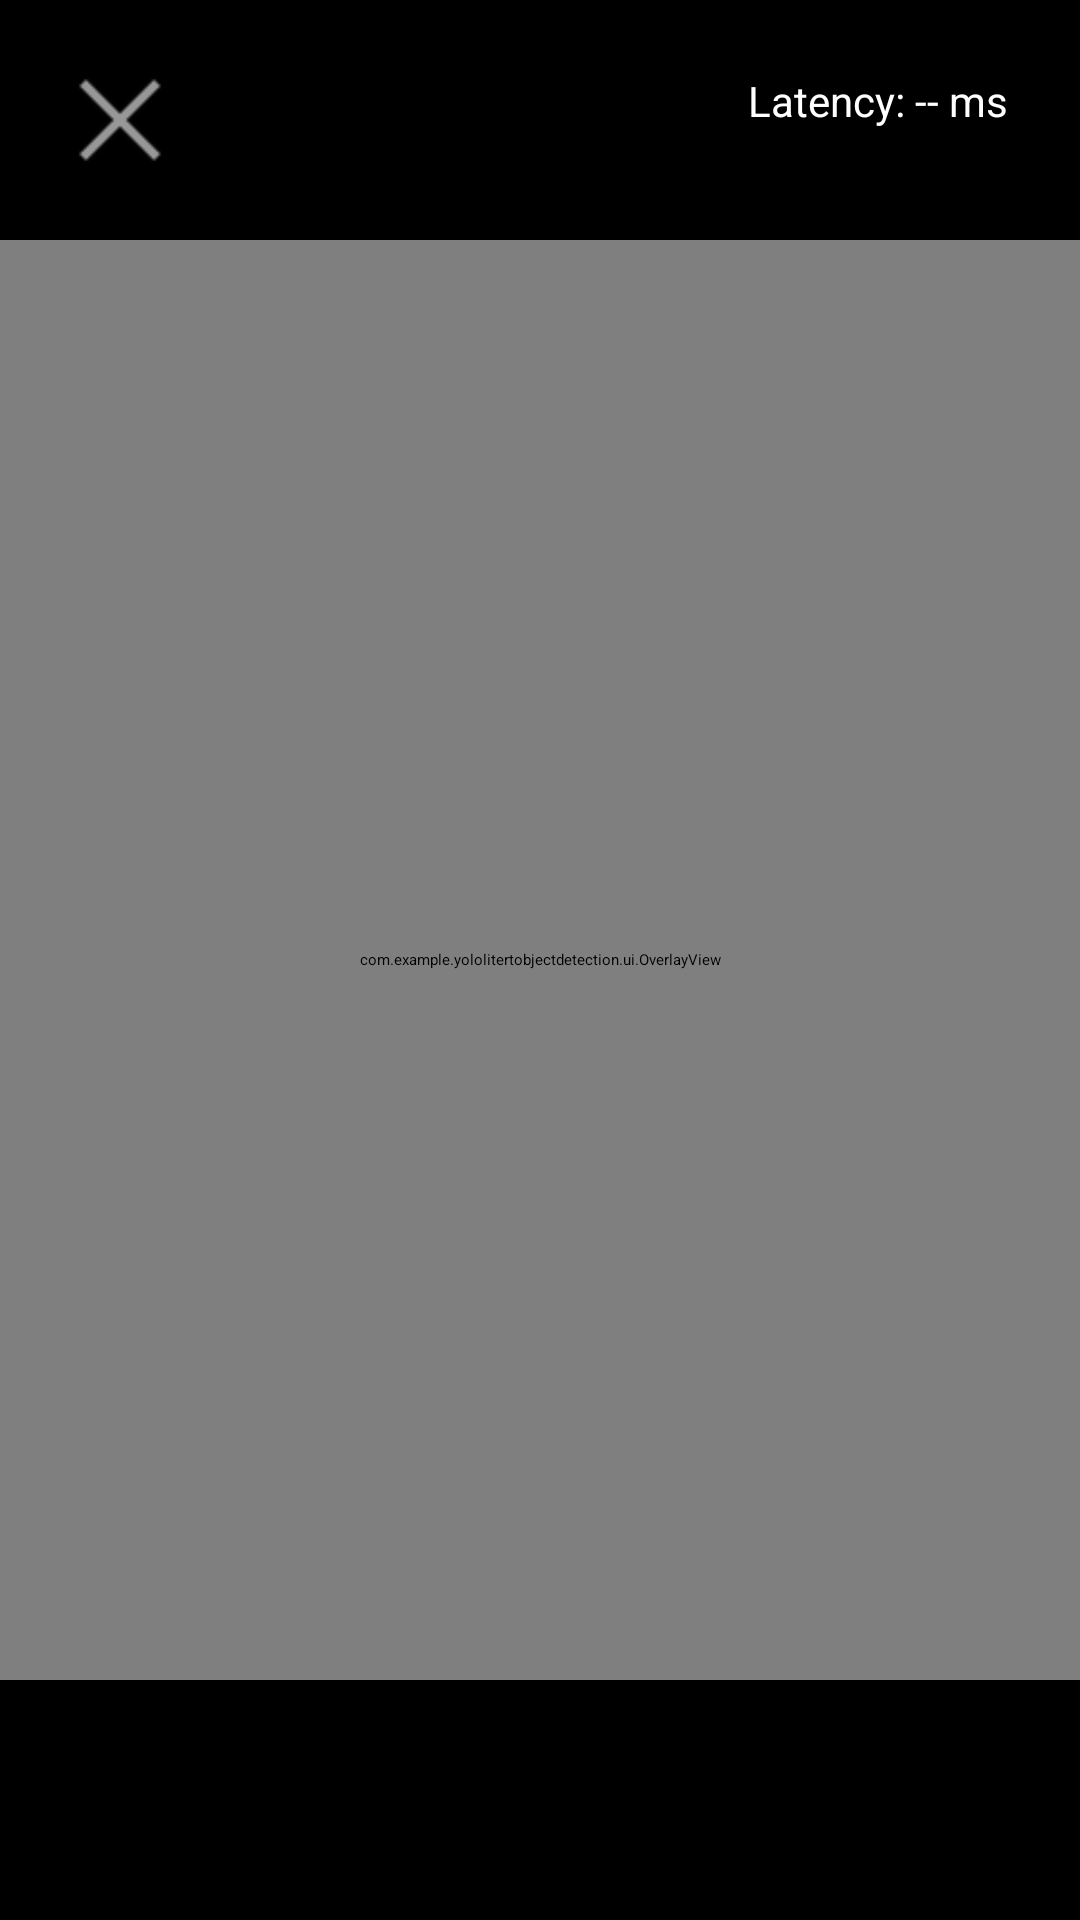

Icon click points for this 1080px x 1920px phone screenshot, format [x,y]:
close clear cancel: [120,120]
